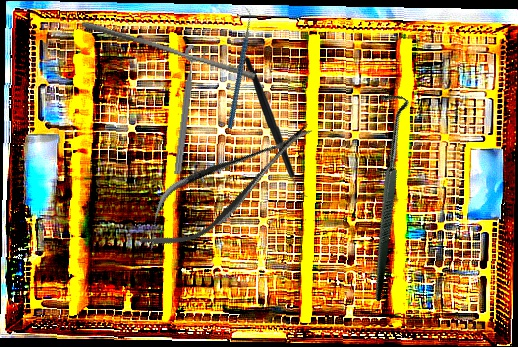Chopper: (189, 6, 287, 130), (242, 56, 312, 199)
Fixation Ring: (170, 44, 208, 176)
Hook Surgical: (285, 87, 482, 302)
Micro Scissor: (122, 103, 330, 269)
Pusher: (79, 20, 258, 81)
